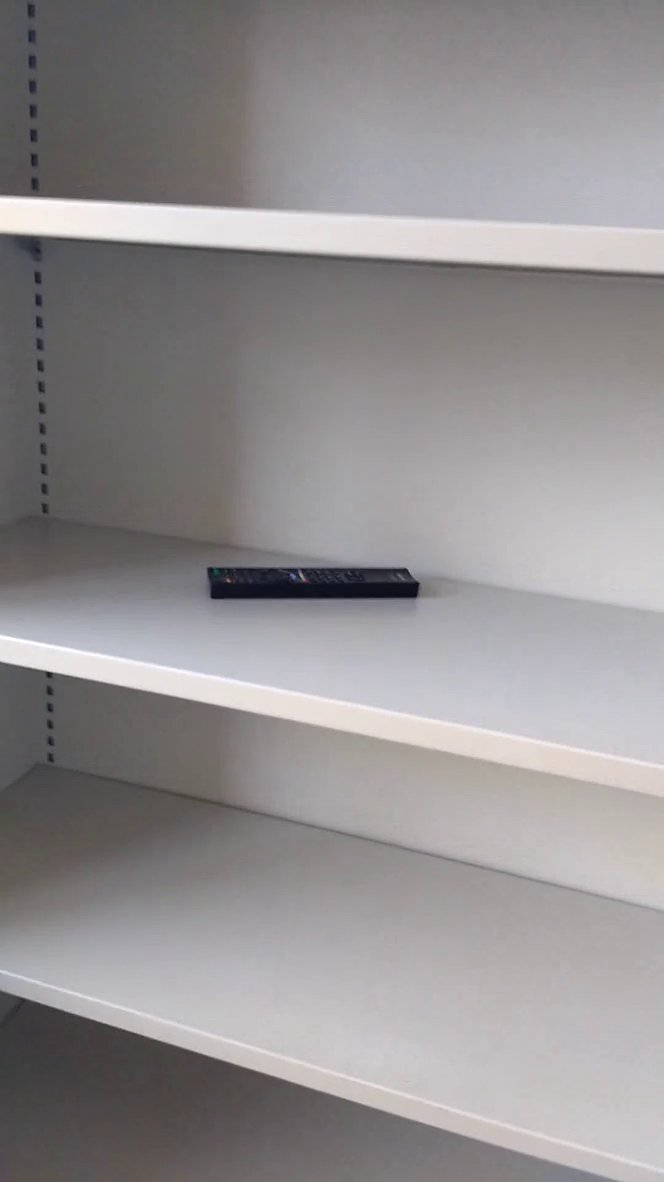remote: (190, 546, 424, 618)
